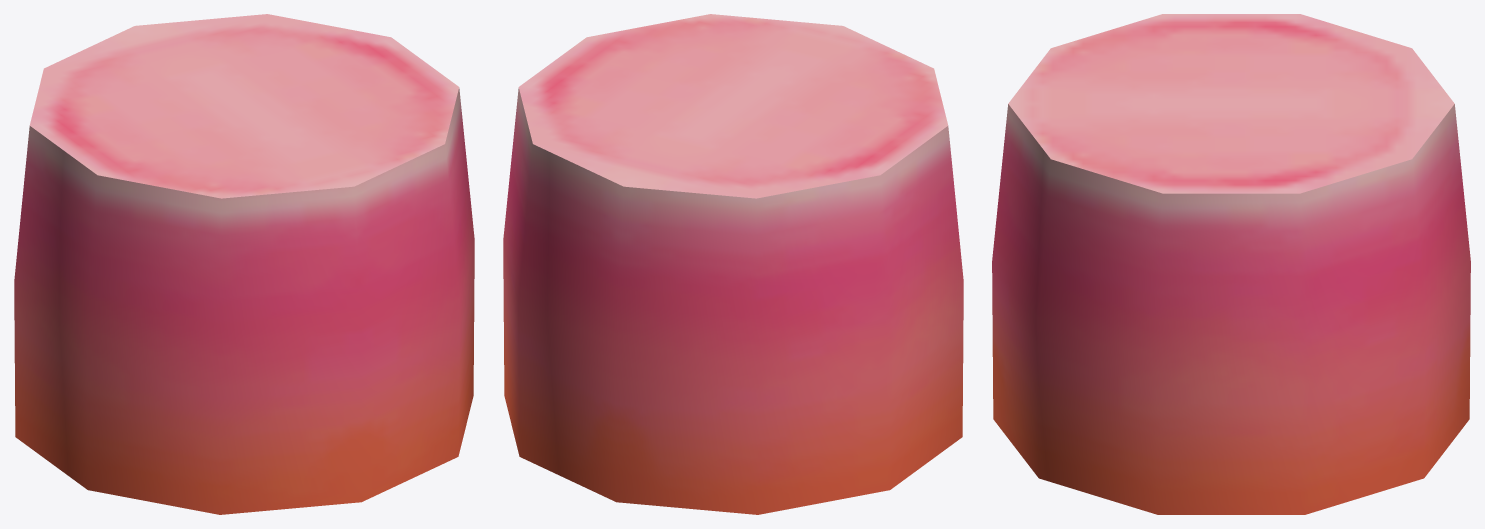
Rendered from Bottle_A_Liquid_Pink.fbx.
The picture shows the model from 3 angles, left to right: view 1: azimuth 30°, elevation 25°; view 2: azimuth 150°, elevation 25°; view 3: azimuth 270°, elevation 25°; orthographic projection.
Visible parts, largest first — view 1: Bottle_A_Liquid_Pink; view 2: Bottle_A_Liquid_Pink; view 3: Bottle_A_Liquid_Pink.
Part boxes in pixels (left/top/right/bottom): Bottle_A_Liquid_Pink: left=14, top=14, right=474, bottom=514; Bottle_A_Liquid_Pink: left=503, top=14, right=963, bottom=514; Bottle_A_Liquid_Pink: left=992, top=14, right=1470, bottom=514.
Size of the model in its own units: 0.2899 by 0.2216 by 0.3048.
